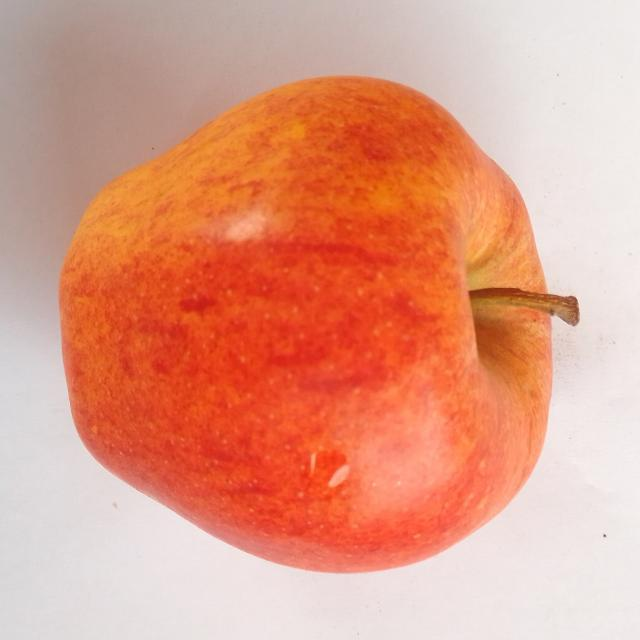Fresh Apple: (50, 71, 558, 582)
